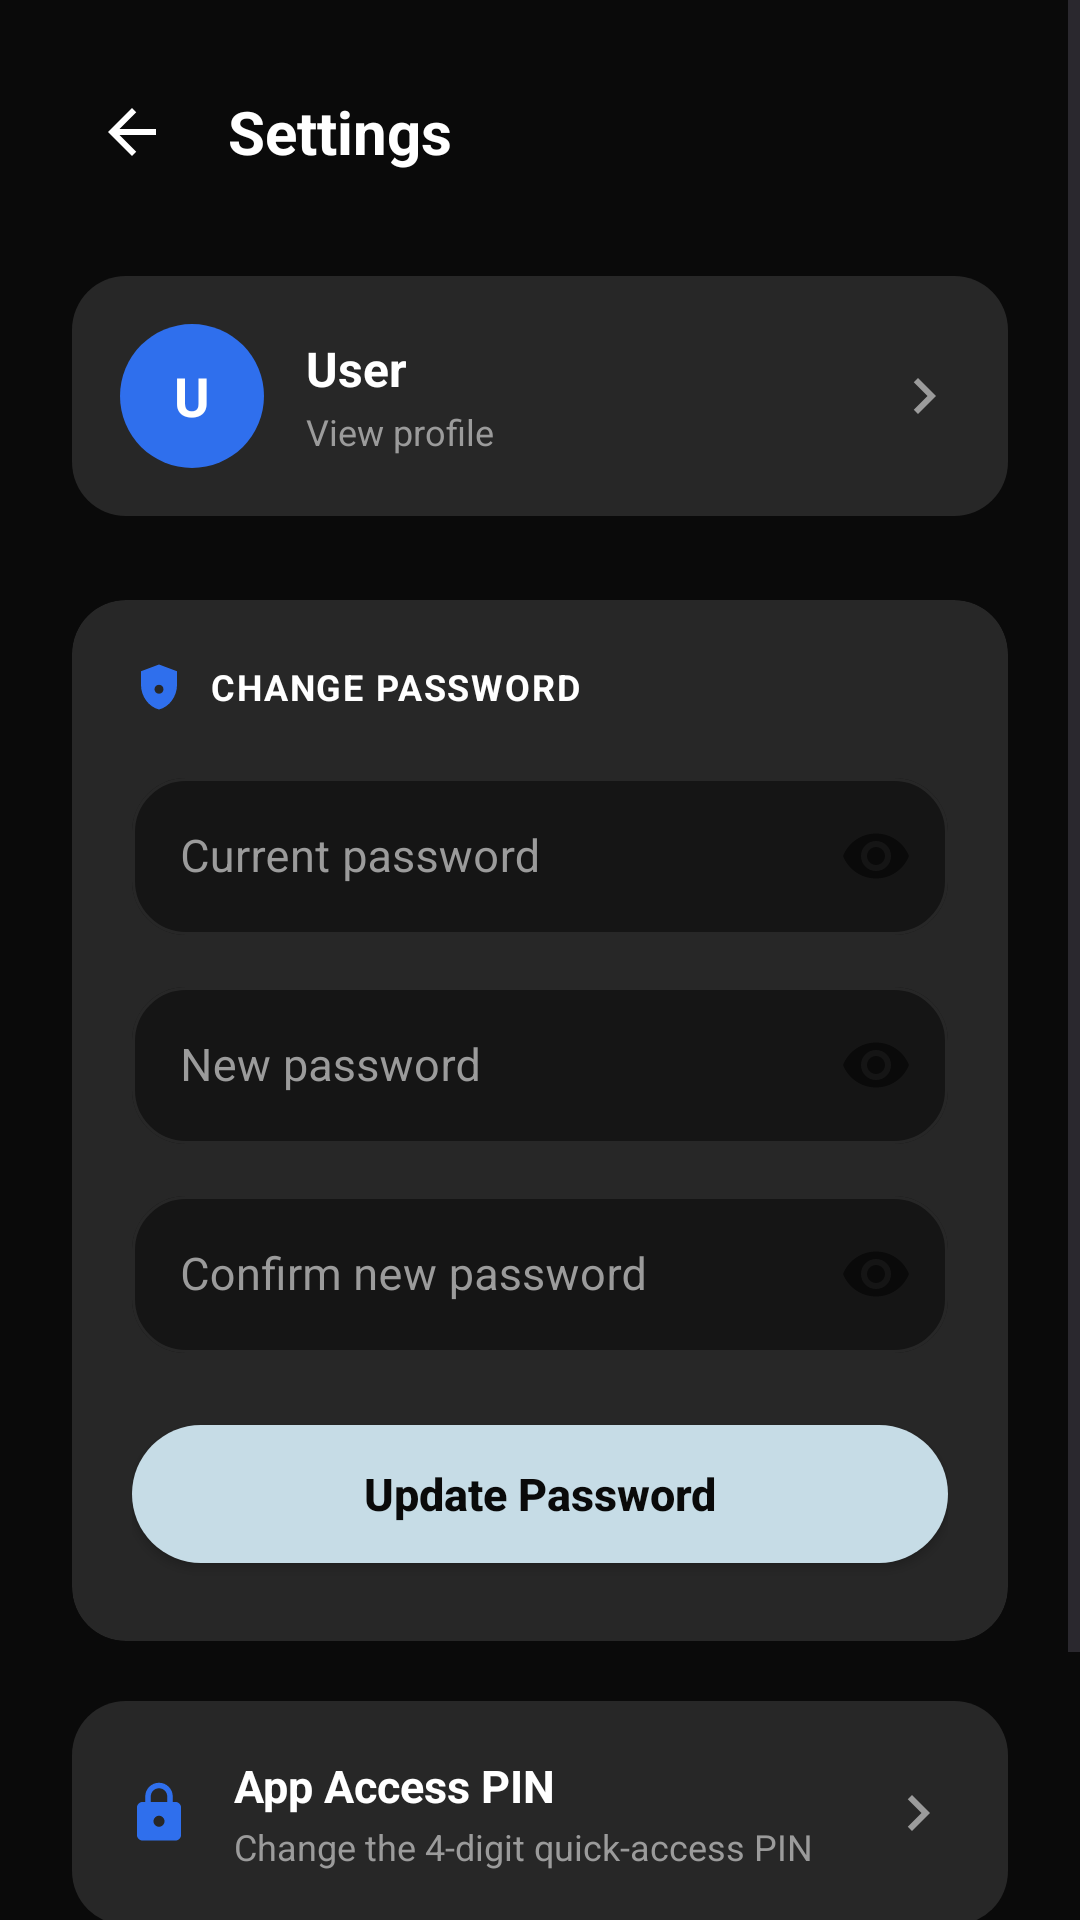

Screen size 1080 × 1920. Icon name, then its box in pixels as [x1,y1,x2,y2]:
Back: [108,108,156,156]
Open profile: [914,378,936,414]
Security: [141,664,177,710]
